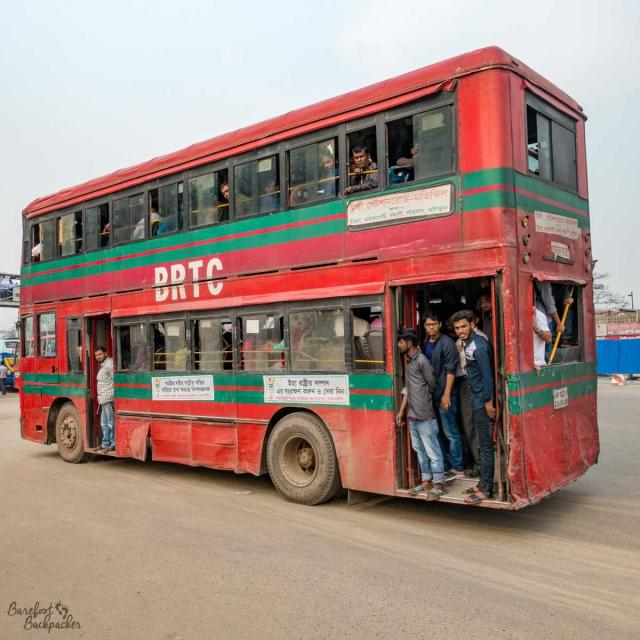Double decker: (12, 43, 611, 511)
